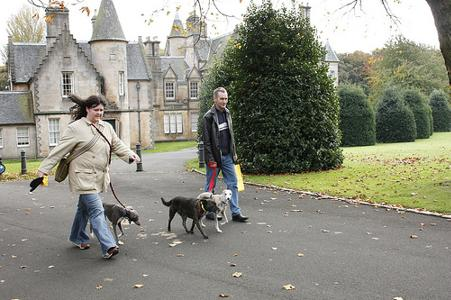person: (201, 88, 250, 223)
